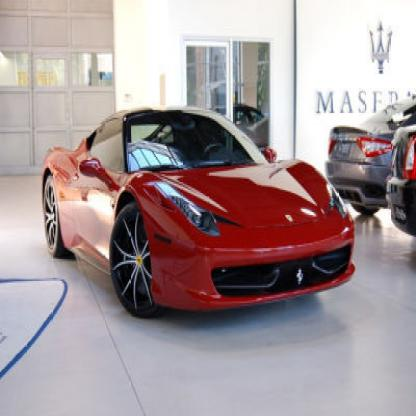car: (40, 106, 360, 324)
